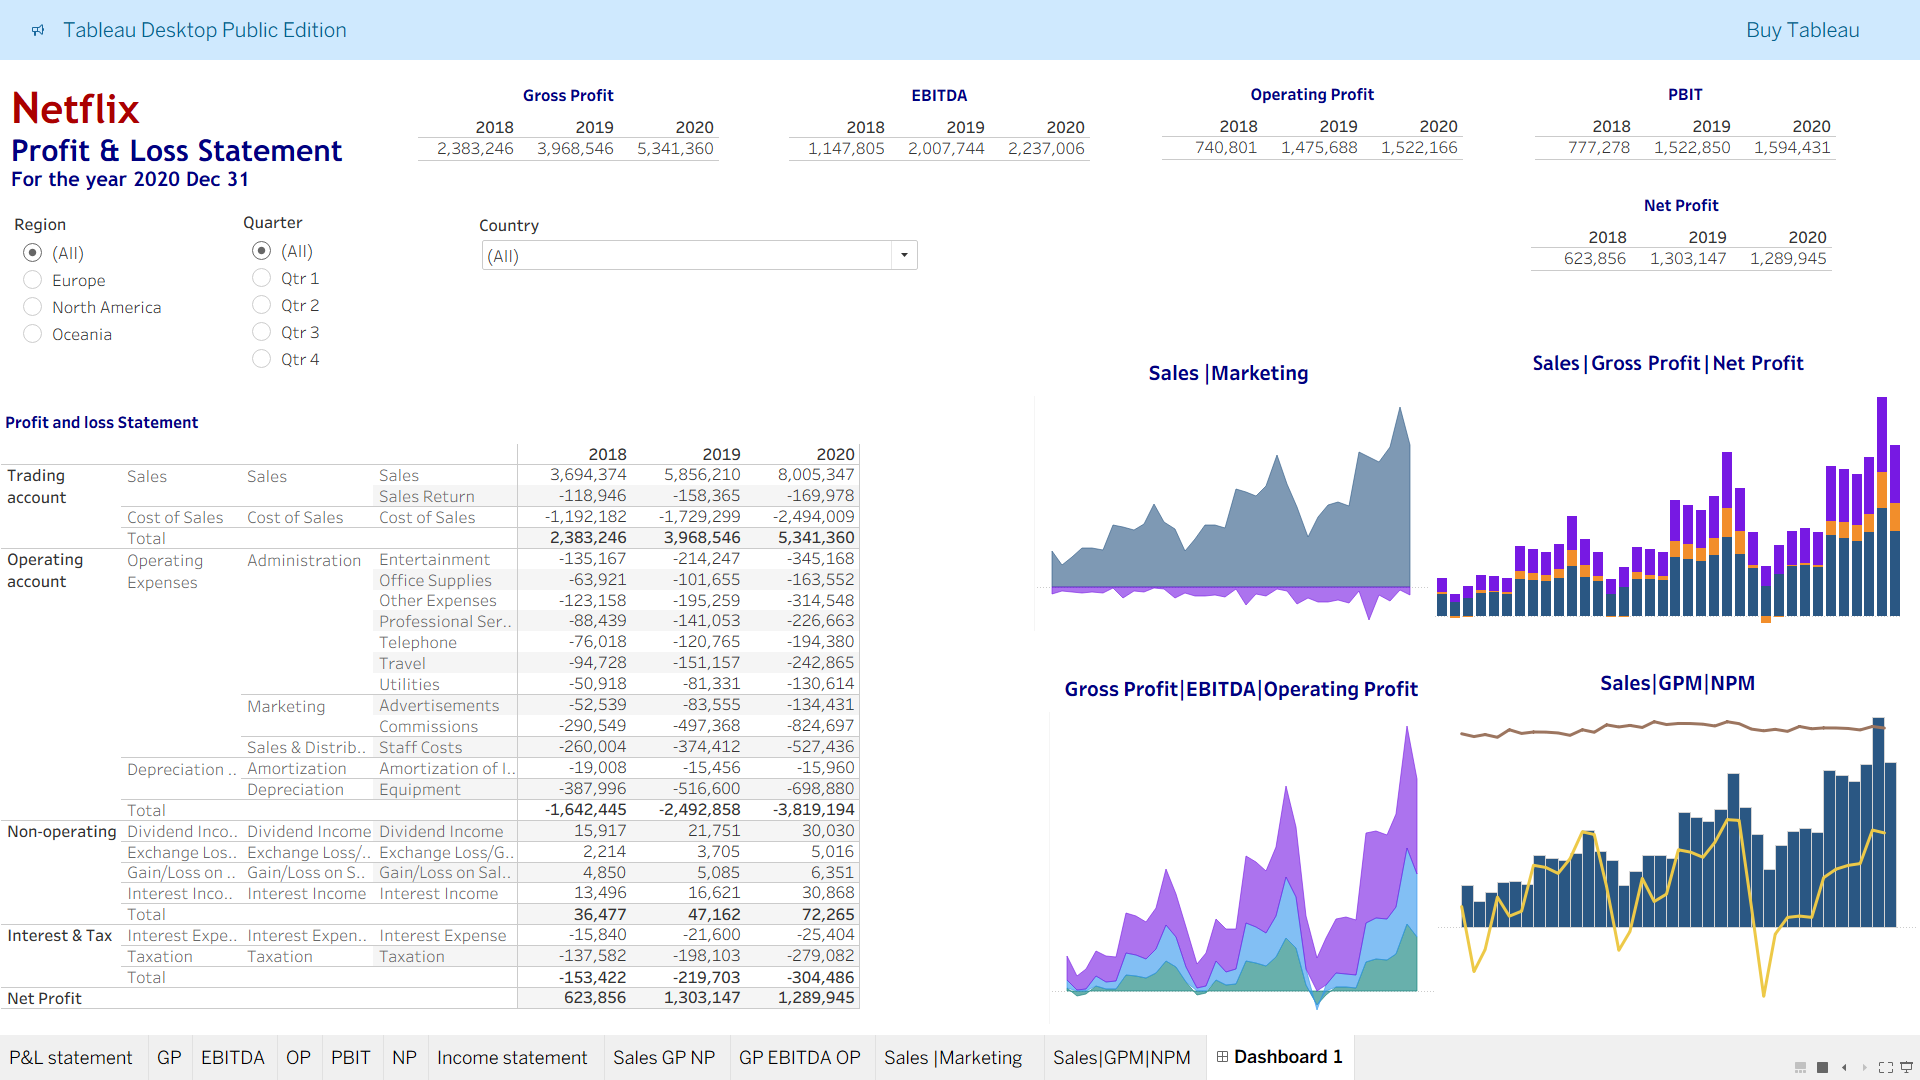

This screenshot's page, from the dashboard's own definition file:
{"tool":"tableau","page":{"name":"Dashboard 1","canvas":[1000,1000],"units":"permille","ordinal":0},"visuals":[{"type":"title","box":[3.7,8.6,238.2,141.8]},{"type":"worksheet","title":"OP","mark":"Automatic","cols":["Date (Calendar)"],"box":[605.4,19.6,187.7,107.6]},{"type":"worksheet","title":"PBIT","mark":"Automatic","cols":["Date (Calendar)"],"box":[799.2,19.6,197,123.5]},{"type":"worksheet","title":"GP","mark":"Automatic","cols":["Date (Calendar)"],"box":[217.6,20.8,189.5,119.8]},{"type":"worksheet","title":"EBITDA","mark":"Automatic","cols":["Date (Calendar)"],"box":[410.9,20.8,190.8,121]},{"type":"worksheet","title":"NP","mark":"Automatic","cols":["Date (Calendar)"],"box":[797.4,133.2,196.4,113.7]},{"type":"filter","title":"P&L statement","param":"[federated.0vl5dzo1cj9a0a10spcnt0fqlaop].[none:Quarter:nk]","box":[126.6,155.3,110.4,220.1]},{"type":"filter","title":"P&L statement","param":"[federated.0vl5dzo1cj9a0a10spcnt0fqlaop].[none:Region:nk]","box":[7.5,156.5,99.8,167.5]},{"type":"filter","title":"P&L statement","param":"[federated.0vl5dzo1cj9a0a10spcnt0fqlaop].[none:Country:nk]","box":[249.4,157.7,230.1,110]},{"type":"worksheet","title":"Sales GP NP","mark":"Bar","cols":["Date (Calendar)","Date (Calendar)","Date (Calendar)"],"box":[747.5,294.6,243.1,294.6]},{"type":"worksheet","title":"Sales |Marketing ","mark":"Area","cols":["Date (Calendar)"],"box":[538.6,302,205.1,283.6]},{"type":"worksheet","title":"P&L statement","mark":"Automatic","rows":["Class","SubClass","SubClass2","Account"],"cols":["Date (Calendar)"],"box":[0.6,355.8,540.5,638.1]},{"type":"worksheet","title":"Sales|GPM|NPM","mark":"Automatic","rows":["Calculation_0635542632427520"],"cols":["Date (Calendar)"],"box":[748.8,619.8,250,355.8]},{"type":"worksheet","title":"GP EBITDA OP","mark":"Area","cols":["Date (Calendar)"],"box":[546.1,625.9,200.8,363.1]}]}

Visuals, with their boxes on the dashboard's canvas, which has no fixed pixel size, in thousandths of its width and height (x1, y1, x2, y2). These are canvas units, not pixel positions in the 1920x1080 screenshot, which may show the page scaled, cropped or inside an application window:
title: locate(4, 9, 242, 150)
"OP" worksheet: locate(605, 20, 793, 127)
"PBIT" worksheet: locate(799, 20, 996, 143)
"GP" worksheet: locate(218, 21, 407, 141)
"EBITDA" worksheet: locate(411, 21, 602, 142)
"NP" worksheet: locate(797, 133, 994, 247)
"P&L statement" filter: locate(127, 155, 237, 375)
"P&L statement" filter: locate(8, 156, 107, 324)
"P&L statement" filter: locate(249, 158, 480, 268)
"Sales GP NP" worksheet (Bar marks): locate(748, 295, 991, 589)
"Sales |Marketing " worksheet (Area marks): locate(539, 302, 744, 586)
"P&L statement" worksheet: locate(1, 356, 541, 994)
"Sales|GPM|NPM" worksheet: locate(749, 620, 999, 976)
"GP EBITDA OP" worksheet (Area marks): locate(546, 626, 747, 989)
